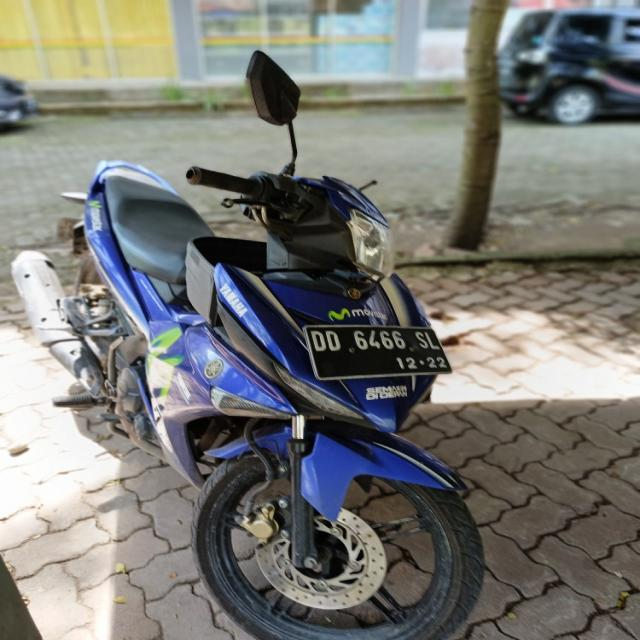plates: (303, 320, 448, 378)
